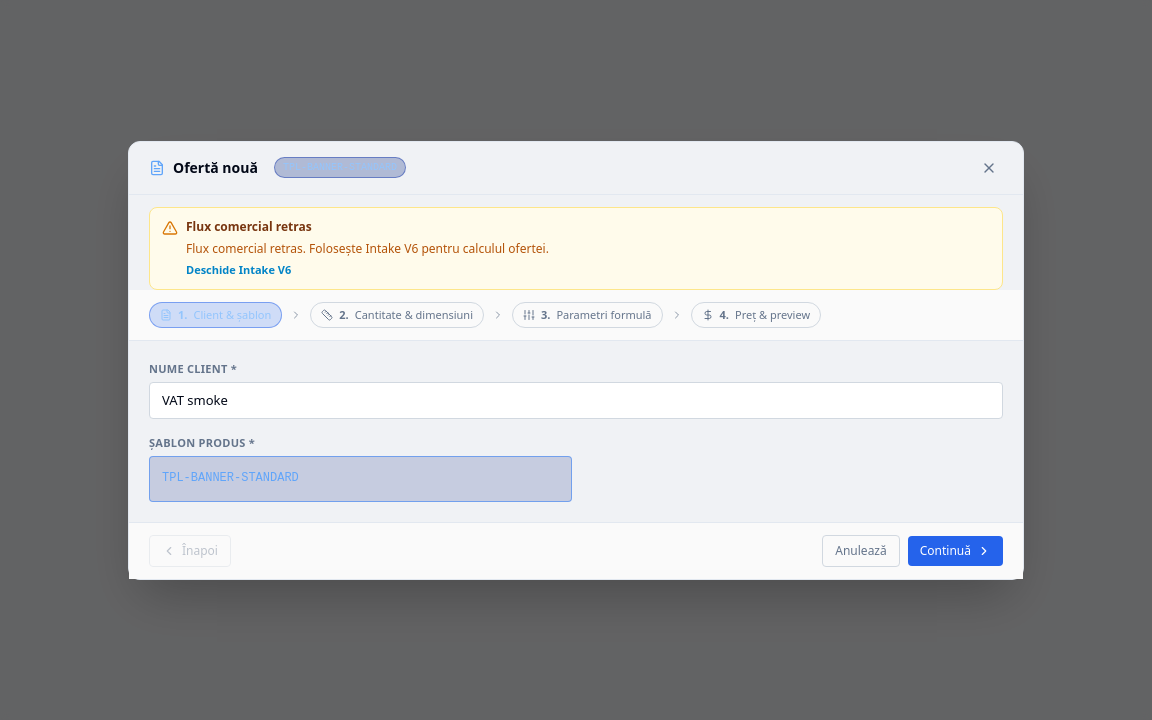
Test: QuoteWizard VAT governance › shows read-only Settings VAT on pricing step, no editable VAT input
This screenshot has width=1152, height=720.
Click the button "Continuă": (955, 550) [908,536,1003,566]
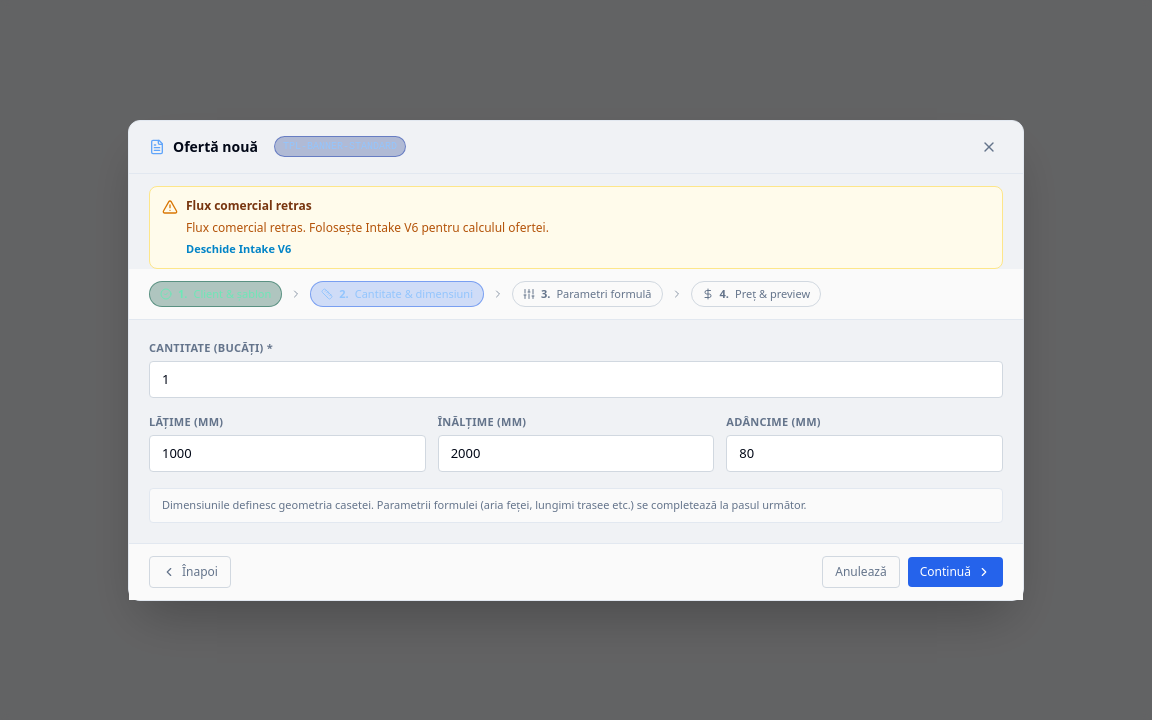
Click the button "Continuă": (955, 572) [908,556,1003,586]
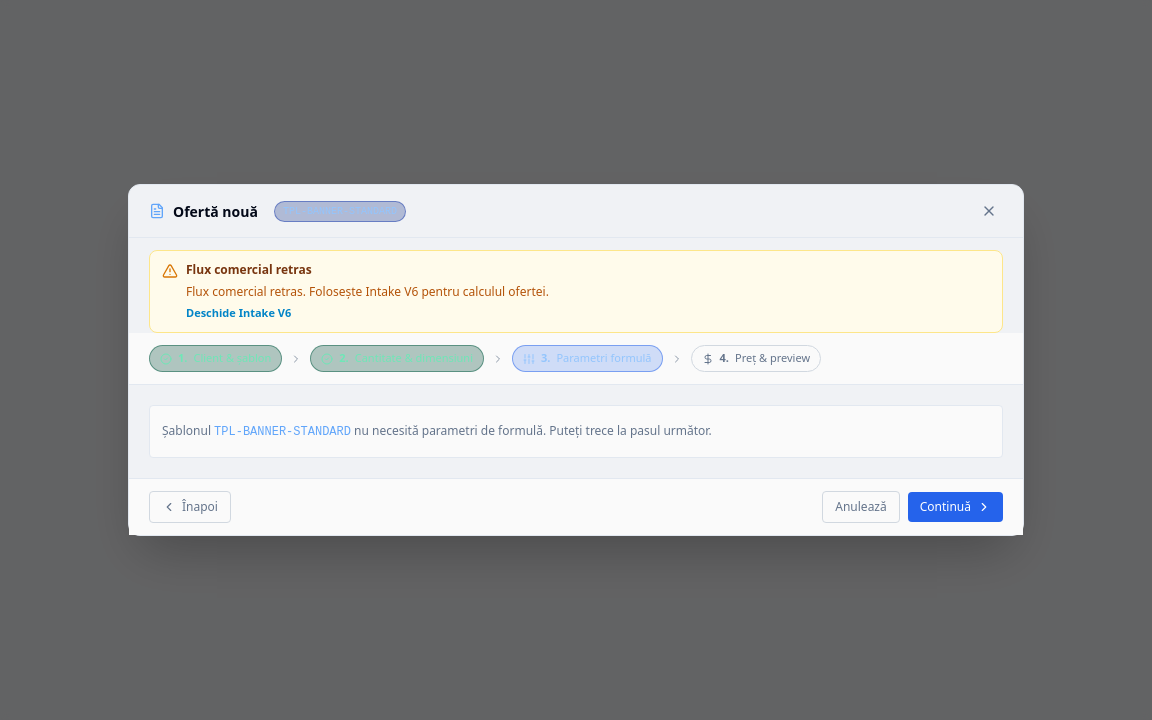
Click the button "Continuă": (955, 507) [908,492,1003,522]
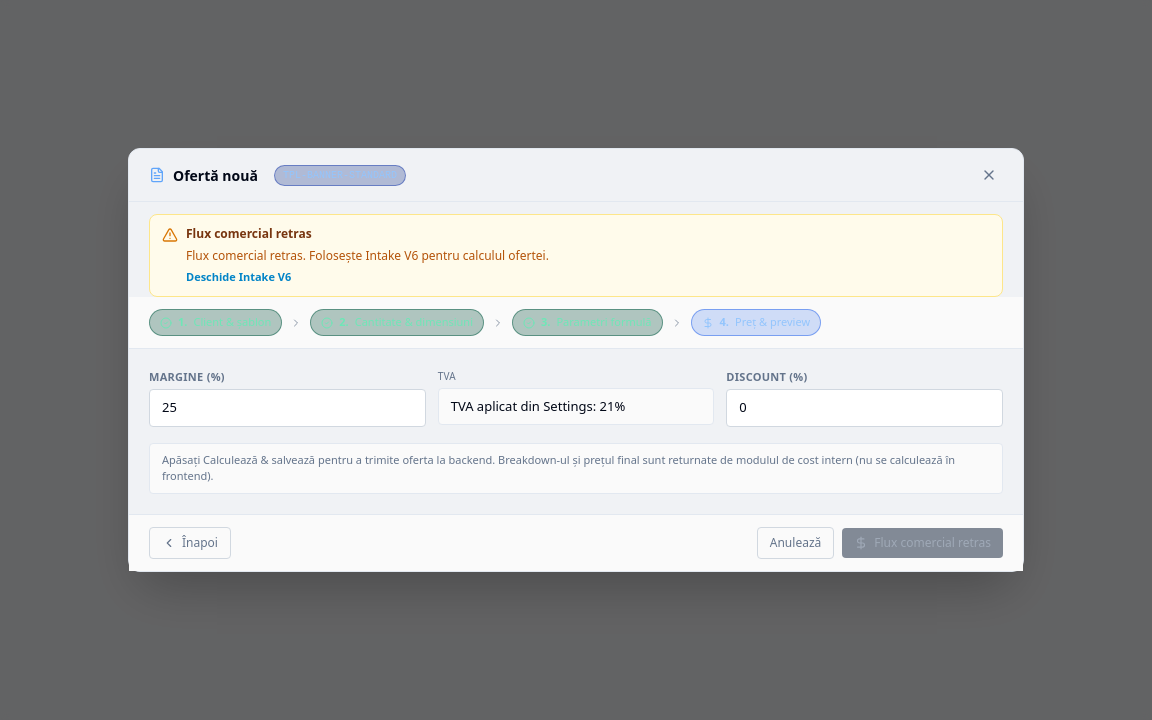
Now the text with test id "quote-wizard-settings-vat" reads "TVA aplicat din Settings: 21%", box [438,388,714,425]
